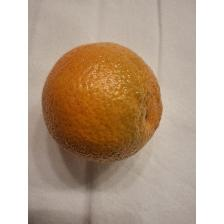Mandarine: (38, 40, 166, 164)
